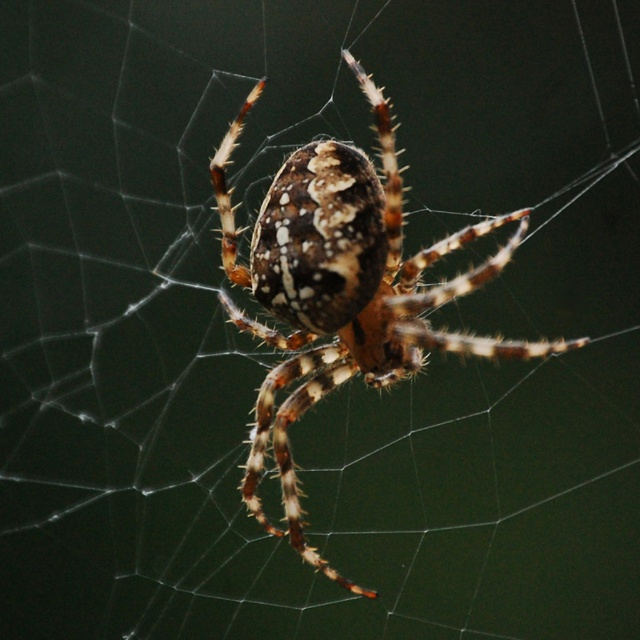Spider: (208, 49, 589, 598)
